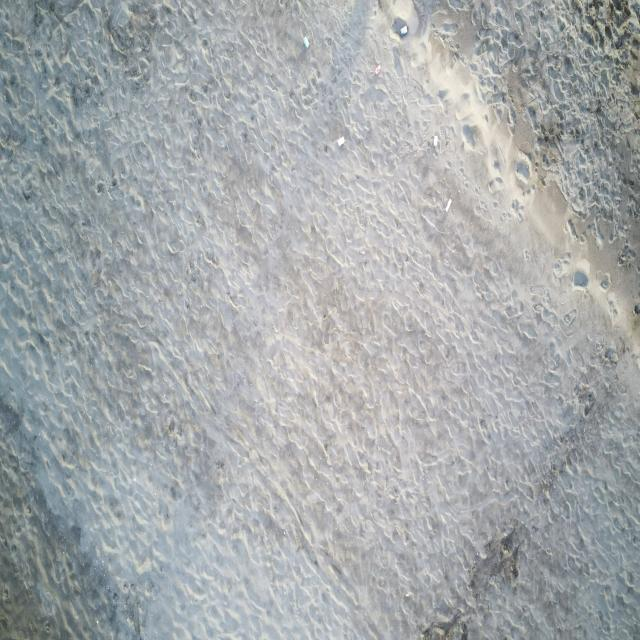tin-and-aluminum-cans: (445, 198, 453, 212), (338, 136, 346, 148), (432, 135, 438, 148), (303, 36, 309, 48), (400, 26, 407, 36), (375, 64, 381, 75)
